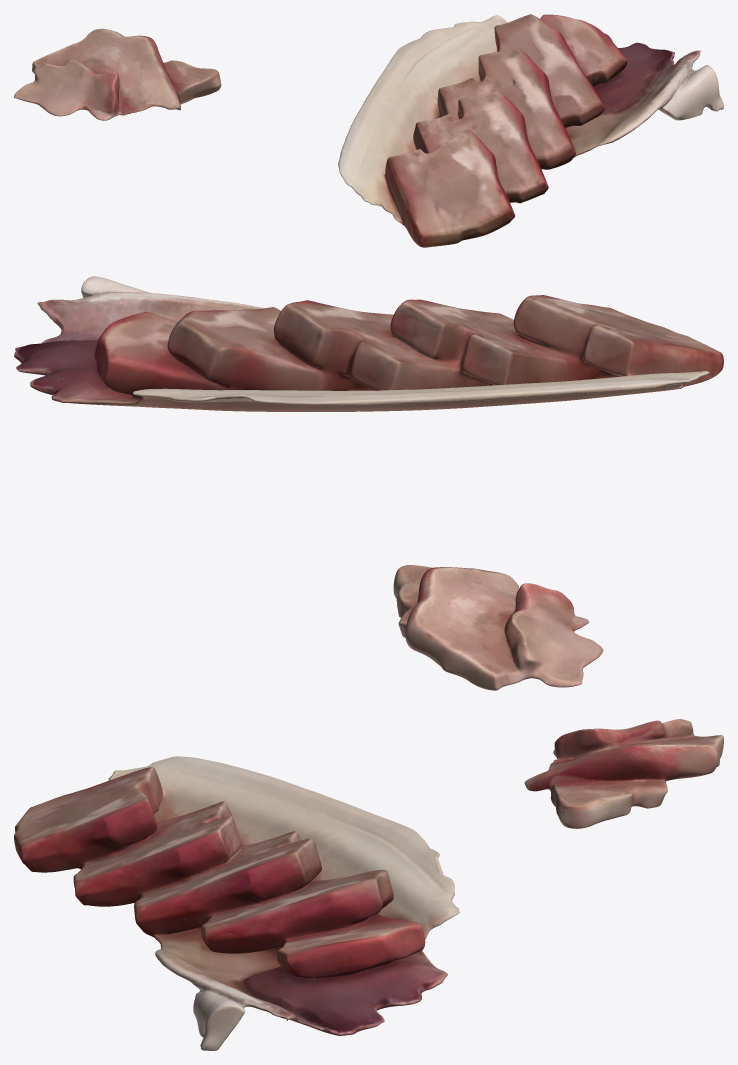
File: yaxna.glb
The picture shows the model from 3 angles, top to bottom: view 1: azimuth 30°, elevation 25°; view 2: azimuth 150°, elevation 25°; view 3: azimuth 270°, elevation 25°; orthographic projection. The views are drawn at different scales.
Visible parts, largest first — view 1: yaxna; view 2: yaxna; view 3: yaxna.
Boxes of the visible parts, x1,y1,x2,y2 form: yaxna: (14, 14, 723, 247); yaxna: (14, 276, 723, 690); yaxna: (14, 719, 723, 1050).
Bounding box in the file's own units: 0.9861 × 0.1324 × 0.8996.
1 material, 1 textured.
